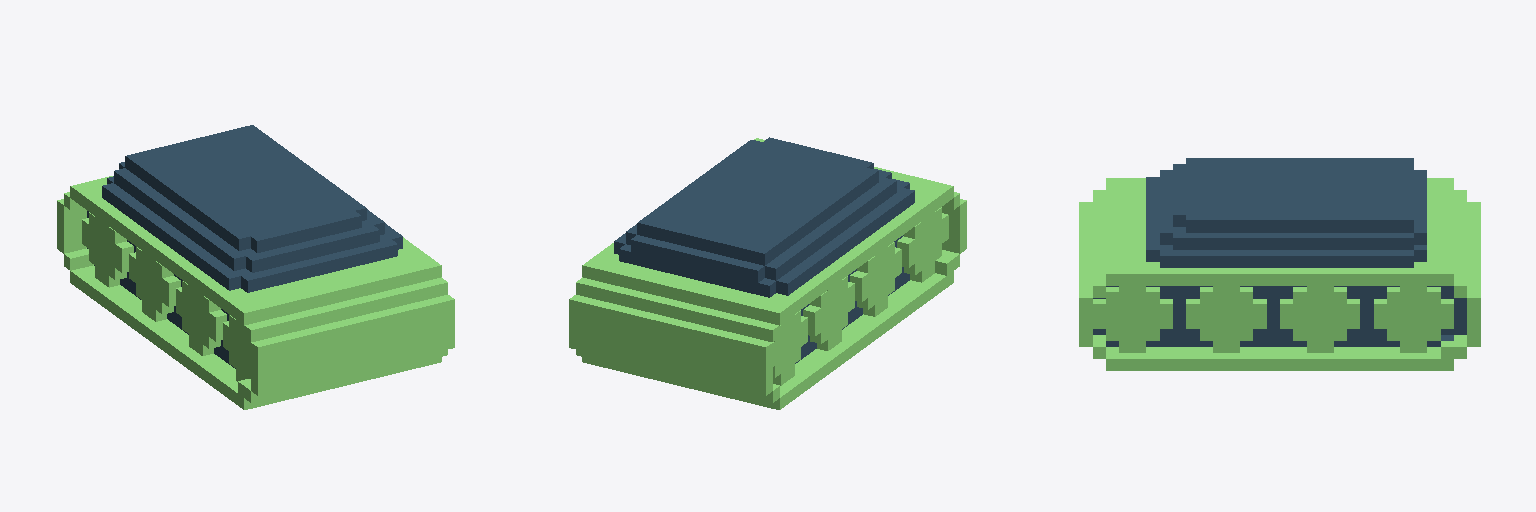
The picture shows the model from 3 angles: view 1: azimuth 30°, elevation 25°; view 2: azimuth 150°, elevation 25°; view 3: azimuth 270°, elevation 25°; orthographic projection.
Parts seen in each view (by area): view 1: object 1; view 2: object 1; view 3: object 1.
Part boxes in pixels (bbox=[...]): object 1: bbox=[57, 125, 454, 409]; object 1: bbox=[569, 137, 966, 409]; object 1: bbox=[1079, 158, 1480, 370].
Bounding box in the file's own units: 1.7 × 1.1 × 3.
1 materials, 1 textured.